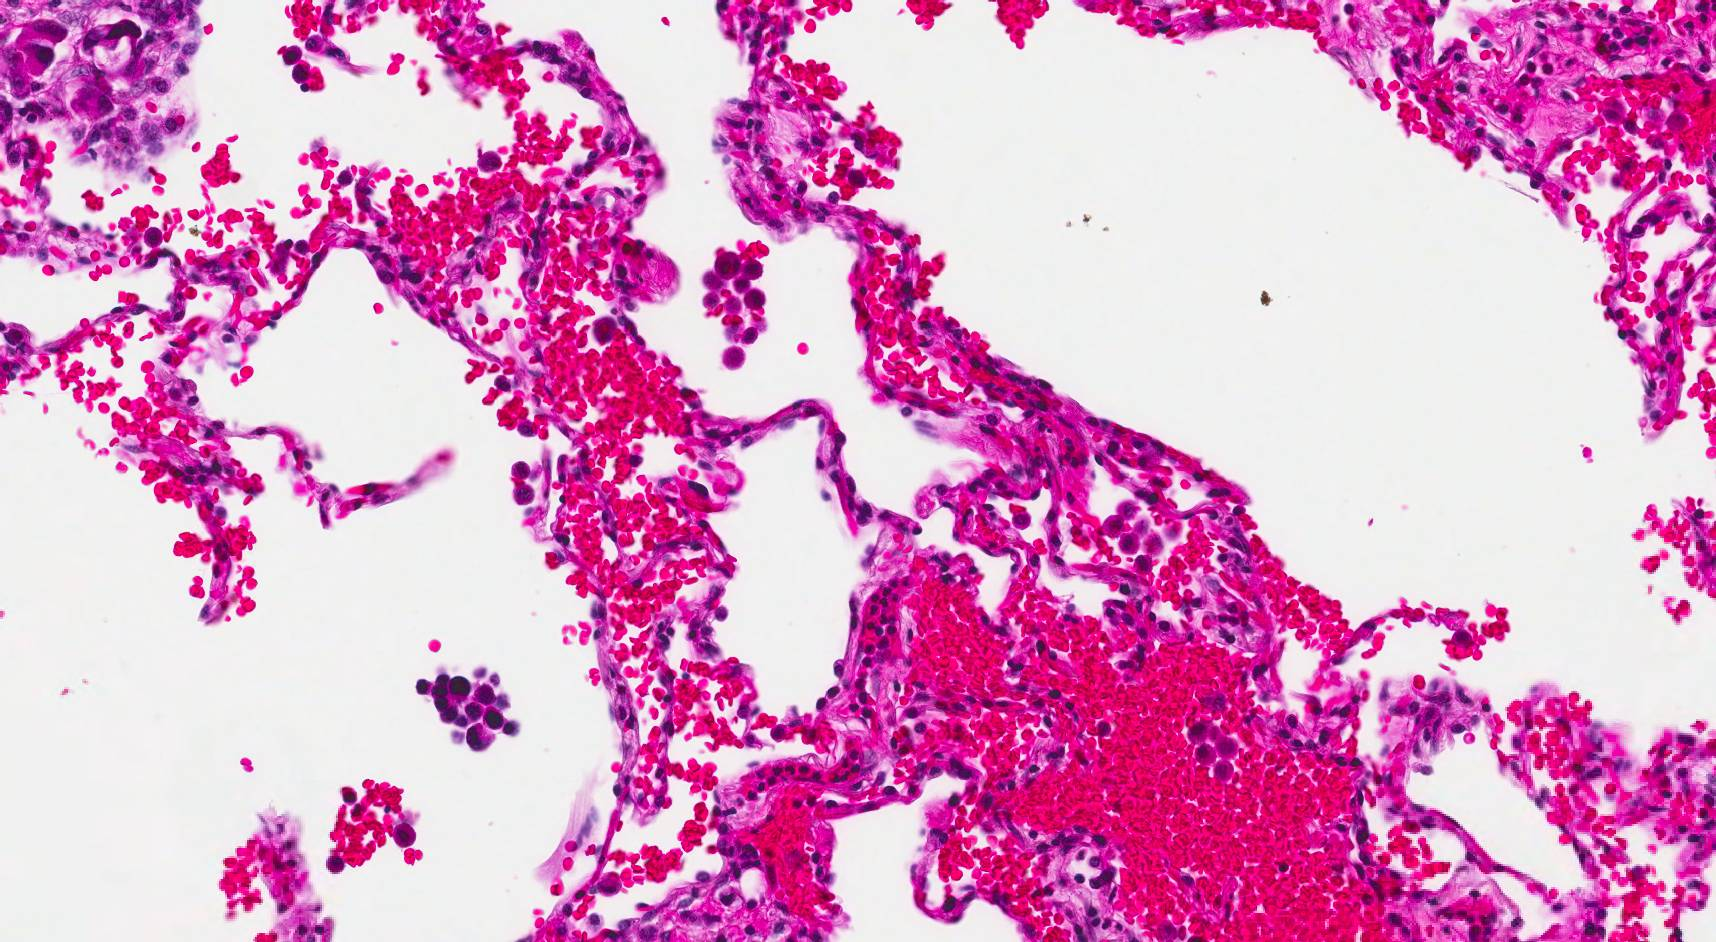stas: (416, 661, 521, 752)
